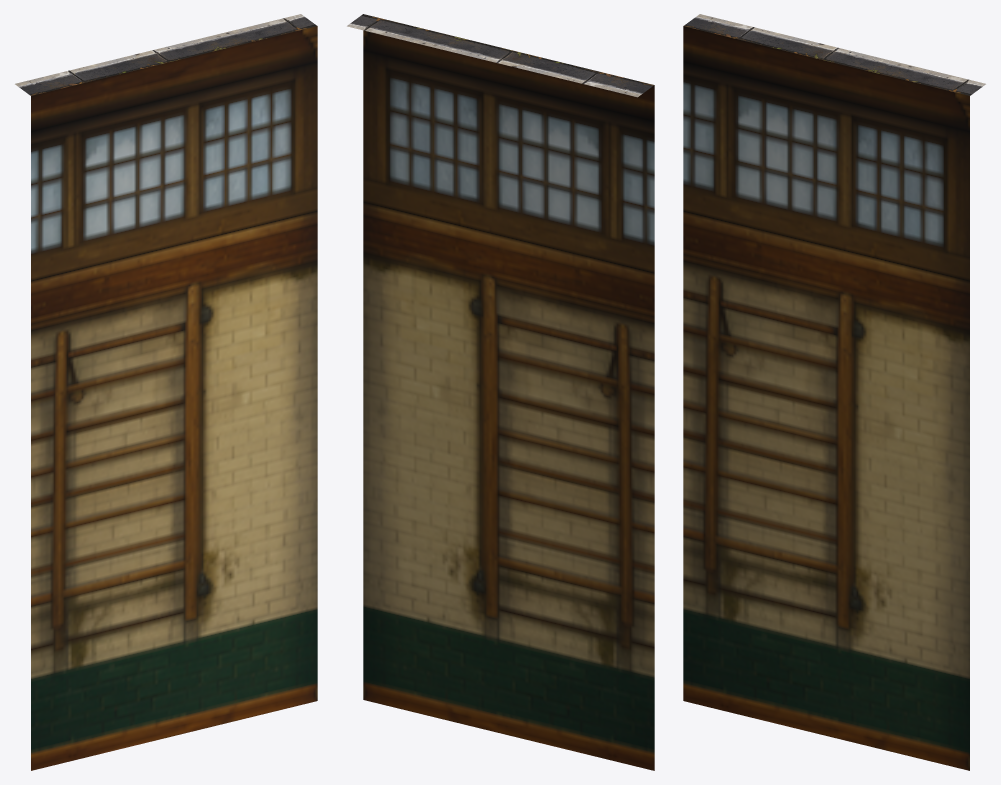
File: IN_GYM_Wall4.fbx
3 renders of one model, left to right at view 1: azimuth 30°, elevation 25°; view 2: azimuth 150°, elevation 25°; view 3: azimuth 330°, elevation 25°, orthographic.
Visible parts, largest first — view 1: IN_GYM_Wall4; view 2: IN_GYM_Wall4; view 3: IN_GYM_Wall4.
Boxes of the visible parts, bbox=[...] form: IN_GYM_Wall4: bbox=[15, 14, 317, 770]; IN_GYM_Wall4: bbox=[347, 14, 654, 770]; IN_GYM_Wall4: bbox=[683, 14, 985, 770].
Bounding box in the file's own units: 4 × 0.4 × 9.
Materials: 1 (1 with a texture image).
